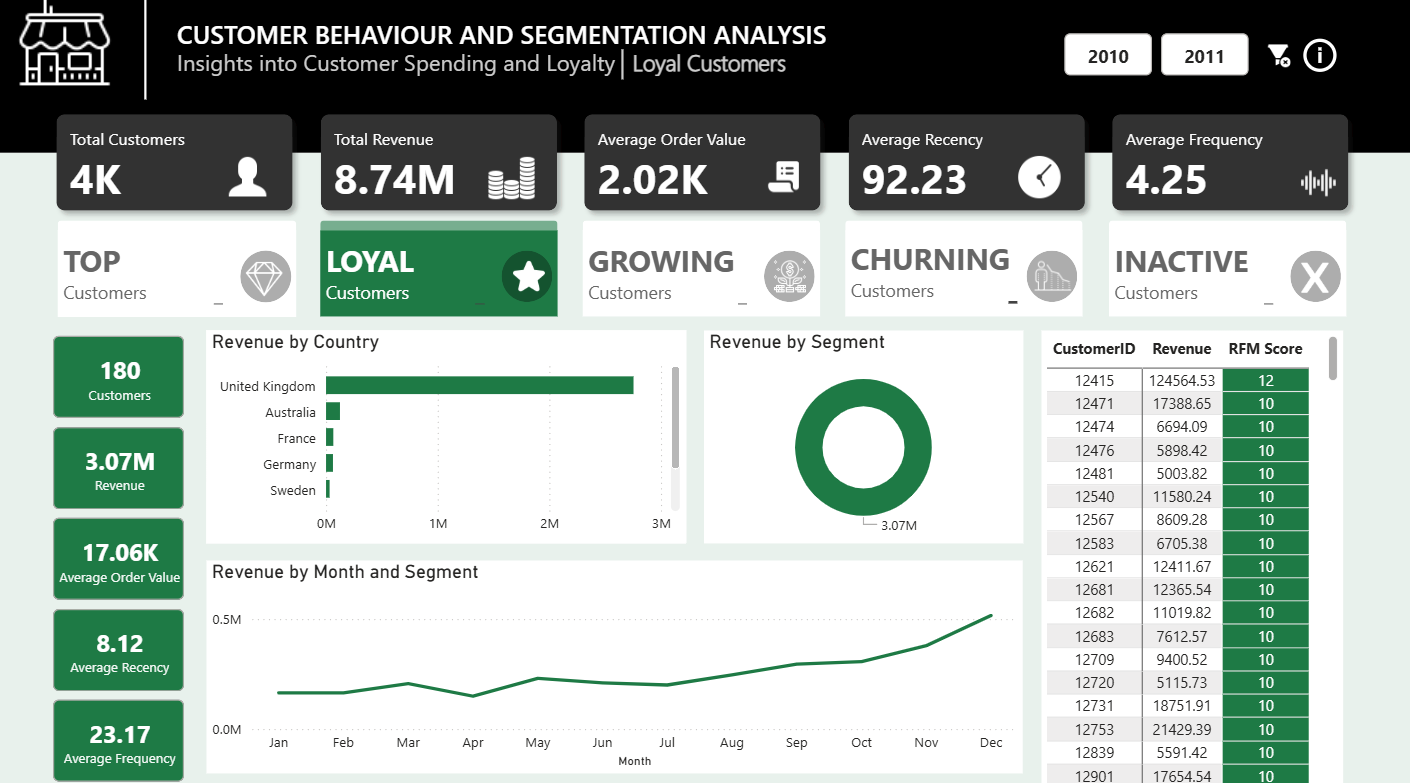

The page's visual inventory and layout, read from the dashboard file:
{"tool":"powerbi","page":{"name":"Dashboard","canvas":[1280,720],"ordinal":0},"visuals":[{"type":"group","id":"g1","title":"online_store","box":[0,0,1280.4,720.2],"z":0},{"type":"shape","box":[0,0,1280,720],"z":0,"group":"g1"},{"type":"shape","box":[57,205,215,11.7],"z":0,"group":"g3"},{"type":"shape","box":[294,205,214,11.6],"z":0,"group":"g4"},{"type":"shape","box":[531,205,214,11.6],"z":0,"group":"g5"},{"type":"shape","box":[768,205,214,11.6],"z":0,"group":"g6"},{"type":"shape","box":[1005,205,214,11.6],"z":0,"group":"g7"},{"type":"group","id":"g2","title":"background","box":[0,144,1280,576],"z":1000,"group":"g1"},{"type":"actionButton","box":[288,208,224,80],"z":1000},{"type":"shape","box":[294,213.7,214,77.5],"z":1000,"group":"g4"},{"type":"shape","box":[531,213.7,214,77.5],"z":1000,"group":"g5"},{"type":"shape","box":[768,213.7,214,77.5],"z":1000,"group":"g6"},{"type":"shape","box":[1005,213.7,214,77.5],"z":1000,"group":"g7"},{"type":"shape","box":[57,213.8,215,78],"z":1000,"group":"g3"},{"type":"shape","box":[0,0,1280,144],"z":2000,"group":"g1"},{"type":"actionButton","box":[64,208,208,80],"z":2000},{"type":"textbox","title":"CHURNING","box":[768,221,160,64],"z":2000,"group":"g6"},{"type":"textbox","title":"LOYAL","box":[294,223.4,152.9,62],"z":2000,"group":"g4"},{"type":"textbox","title":"GROWING","box":[531,223.4,152.9,62],"z":2000,"group":"g5"},{"type":"textbox","title":"INACTIVE","box":[1005,223.4,152.9,62],"z":2000,"group":"g7"},{"type":"textbox","title":"TOP","box":[57,223.5,153.6,62.4],"z":2000,"group":"g3"},{"type":"image","title":"logo","box":[16,0,96,96],"z":3000,"group":"g1"},{"type":"actionButton","box":[528,208,224,80],"z":3000},{"type":"shape","box":[457.4,232.1,45.9,46.5],"z":3000,"group":"g4"},{"type":"shape","box":[694.4,232.1,45.9,46.5],"z":3000,"group":"g5"},{"type":"shape","box":[931.4,232.1,45.9,46.5],"z":3000,"group":"g6"},{"type":"shape","box":[1168.4,232.1,45.9,46.5],"z":3000,"group":"g7"},{"type":"shape","box":[221.1,232.3,46.1,46.8],"z":3000,"group":"g3"},{"type":"shape","box":[128,0,16,96],"z":4000,"group":"g1"},{"type":"actionButton","box":[768,208,208,80],"z":4000},{"type":"image","box":[458,232,47,47],"z":4000,"group":"g4"},{"type":"image","box":[932,232,45,45],"z":4000,"group":"g6"},{"type":"image","box":[698,235,40,40],"z":4000,"group":"g5"},{"type":"image","box":[222.1,235.2,43.2,43.9],"z":4000,"group":"g3"},{"type":"image","box":[1171,236,40,40],"z":4000,"group":"g7"},{"type":"cardVisual","title":"segment kpi","fields":{"Data":["Segment_KPI_Measures.Segment_Total_Customers","Segment_KPI_Measures.Segment_Total_Revenue","Segment_KPI_Measures.Segmenta_Average_Order_Value","Segment_KPI_Measures.Segment_Average_Recency","Segment_KPI_Measures.Segment_Average_Frequency"]},"box":[48,304,128,416],"z":4000,"group":"g9"},{"type":"barChart","title":"Revenue by Country","fields":{"Category":["CustomerRFM.Country"],"Y":["Sum(CustomerRFM.TotalSpend)"]},"box":[192,304,432,192],"z":4000,"group":"g8"},{"type":"textbox","title":"CUSTOMER BEHAVIOUR AND SEGMENTATION ANALYSIS","box":[160.5,21.1,607.1,32.3],"z":5000,"group":"g1"},{"type":"actionButton","box":[1008,208,208,80],"z":5000},{"type":"cardVisual","title":"segment kpi","fields":{"Data":["Segment_KPI_Measures.Segment_Total_Customers","Segment_KPI_Measures.Segment_Total_Revenue","Segment_KPI_Measures.Segmenta_Average_Order_Value","Segment_KPI_Measures.Segment_Average_Recency","Segment_KPI_Measures.Segment_Average_Frequency"]},"box":[48,304,128,416],"z":5000,"group":"g9"},{"type":"barChart","title":"Revenue by Country","fields":{"Category":["CustomerRFM.Country"],"Y":["Sum(CustomerRFM.TotalSpend)"]},"box":[192,304,432,192],"z":5000,"group":"g8"},{"type":"actionButton","title":"info btn","box":[1176,28,40,56],"z":6000},{"type":"textbox","title":"Insights into Customer Spending and Loyalty","box":[160,48,736,32],"z":6000,"group":"g1"},{"type":"cardVisual","title":"main kpi","fields":{"Data":["Main_KPI_Measures.Total_Customers","Main_KPI_Measures.Total_Revenue","Main_KPI_Measures.Average_Order_Value","Main_KPI_Measures.Average_Recency","Main_KPI_Measures.Average_Frequency"]},"box":[40,92,1200,121],"z":7000,"group":"g1"},{"type":"actionButton","title":"toolpit_btn_open","box":[1172,32,48,48],"z":8000},{"type":"actionButton","box":[63.4,112,200.3,82.1],"z":9000},{"type":"group","id":"g3","title":"Top_inactive","box":[57,205,215,78],"z":9000,"group":"g1"},{"type":"actionButton","box":[299.8,112,200.3,82.1],"z":10000},{"type":"actionButton","box":[539.9,112,200.3,82.1],"z":11000},{"type":"group","id":"g4","title":"Loyal_inactive","box":[294,205,214,86.2],"z":11000,"group":"g1"},{"type":"actionButton","box":[777.5,112,200.3,82.1],"z":12000},{"type":"actionButton","box":[1013.8,112,200.3,82.1],"z":13000},{"type":"group","id":"g5","title":"Growing_inactive","box":[531,205,214,86.2],"z":13000,"group":"g1"},{"type":"cardVisual","fields":{"Data":["Conditional Formating.ViewingText"]},"box":[559,24,233.9,59.7],"z":14000},{"type":"shape","box":[546,51,42.3,27.4],"z":15000},{"type":"group","id":"g6","title":"Churning_inactive","box":[768,205,214,86.2],"z":15000,"group":"g1"},{"type":"group","id":"g7","title":"Inactive_inactive","box":[1005,205,214,86.2],"z":17000,"group":"g1"},{"type":"lineChart","fields":{"Y":["Sum(OnlineRetail.TotalAmount)"],"Series":["CustomerRFM.Customer_Segment"],"Category":["OnlineRetail.OrderMonthAbbr"]},"box":[192,512,736,192],"z":19000,"group":"g1"},{"type":"donutChart","fields":{"Category":["CustomerRFM.Customer_Segment"],"Y":["Sum(CustomerRFM.TotalSpend)"]},"box":[640,304,288,192],"z":20000,"group":"g1"},{"type":"pivotTable","fields":{"Rows":["CustomerRFM.CustomerID"],"Values":["Sum(CustomerRFM.TotalSpend)","Sum(CustomerRFM.RFM_Score)"]},"box":[944,304,272,416],"z":21000,"group":"g1"},{"type":"advancedSlicerVisual","title":"Year slicer","fields":{"Values":["OnlineRetail.Year"]},"box":[960,32,176,48],"z":22000,"group":"g1"},{"type":"image","title":"clear slicer","box":[1142,16,32,80],"z":23000,"group":"g1"},{"type":"actionButton","title":"info btn","box":[1175,32,32,48],"z":24000,"group":"g1"},{"type":"group","id":"g8","title":"Revenue by country","box":[192,304,432,192],"z":25000,"group":"g1"},{"type":"group","id":"g9","title":"segment kpi","box":[48,304,128,416],"z":26000,"group":"g1"}]}

Visuals, with their boxes in screenshot pixels (x1, y1, x2, y2), scaled from the page's 1280x720 canvas onto the 1410x783 screenshot:
"online_store" group: box(0, 0, 1409, 782)
shape: box(0, 0, 1409, 782)
shape: box(63, 223, 300, 236)
shape: box(324, 223, 560, 236)
shape: box(585, 223, 821, 236)
shape: box(846, 223, 1082, 236)
shape: box(1107, 223, 1343, 236)
"background" group: box(0, 157, 1409, 782)
actionButton: box(317, 226, 564, 313)
shape: box(324, 232, 560, 317)
shape: box(585, 232, 821, 317)
shape: box(846, 232, 1082, 317)
shape: box(1107, 232, 1343, 317)
shape: box(63, 233, 300, 317)
shape: box(0, 0, 1409, 157)
actionButton: box(70, 226, 300, 313)
"CHURNING" textbox: box(846, 240, 1022, 310)
"LOYAL" textbox: box(324, 243, 492, 310)
"GROWING" textbox: box(585, 243, 753, 310)
"INACTIVE" textbox: box(1107, 243, 1275, 310)
"TOP" textbox: box(63, 243, 232, 311)
"logo" image: box(18, 0, 123, 104)
actionButton: box(582, 226, 828, 313)
shape: box(504, 252, 554, 303)
shape: box(765, 252, 815, 303)
shape: box(1026, 252, 1077, 303)
shape: box(1287, 252, 1338, 303)
shape: box(244, 253, 294, 304)
shape: box(141, 0, 159, 104)
actionButton: box(846, 226, 1075, 313)
image: box(505, 252, 556, 303)
image: box(1027, 252, 1076, 301)
image: box(769, 256, 813, 299)
image: box(245, 256, 292, 304)
image: box(1290, 257, 1334, 300)
"segment kpi" cardVisual: box(53, 331, 194, 782)
"Revenue by Country" barChart: box(212, 331, 687, 539)
"CUSTOMER BEHAVIOUR AND SEGMENTATION ANALYSIS" textbox: box(177, 23, 846, 58)
actionButton: box(1110, 226, 1340, 313)
"segment kpi" cardVisual: box(53, 331, 194, 782)
"Revenue by Country" barChart: box(212, 331, 687, 539)
"info btn" actionButton: box(1295, 30, 1340, 91)
"Insights into Customer Spending and Loyalty" textbox: box(176, 52, 987, 87)
"main kpi" cardVisual: box(44, 100, 1366, 232)
"toolpit_btn_open" actionButton: box(1291, 35, 1344, 87)
actionButton: box(70, 122, 290, 211)
"Top_inactive" group: box(63, 223, 300, 308)
actionButton: box(330, 122, 551, 211)
actionButton: box(595, 122, 815, 211)
"Loyal_inactive" group: box(324, 223, 560, 317)
actionButton: box(856, 122, 1077, 211)
actionButton: box(1117, 122, 1337, 211)
"Growing_inactive" group: box(585, 223, 821, 317)
cardVisual - Conditional Formating.ViewingText: box(616, 26, 873, 91)
shape: box(601, 55, 648, 85)
"Churning_inactive" group: box(846, 223, 1082, 317)
"Inactive_inactive" group: box(1107, 223, 1343, 317)
lineChart - Sum(OnlineRetail.TotalAmount) x CustomerRFM.Customer_Segment: box(212, 557, 1022, 766)
donutChart - CustomerRFM.Customer_Segment x Sum(CustomerRFM.TotalSpend): box(705, 331, 1022, 539)
pivotTable - CustomerRFM.CustomerID x Sum(CustomerRFM.TotalSpend): box(1040, 331, 1340, 782)
"Year slicer" advancedSlicerVisual: box(1058, 35, 1251, 87)
"clear slicer" image: box(1258, 17, 1293, 104)
"info btn" actionButton: box(1294, 35, 1330, 87)
"Revenue by country" group: box(212, 331, 687, 539)
"segment kpi" group: box(53, 331, 194, 782)
